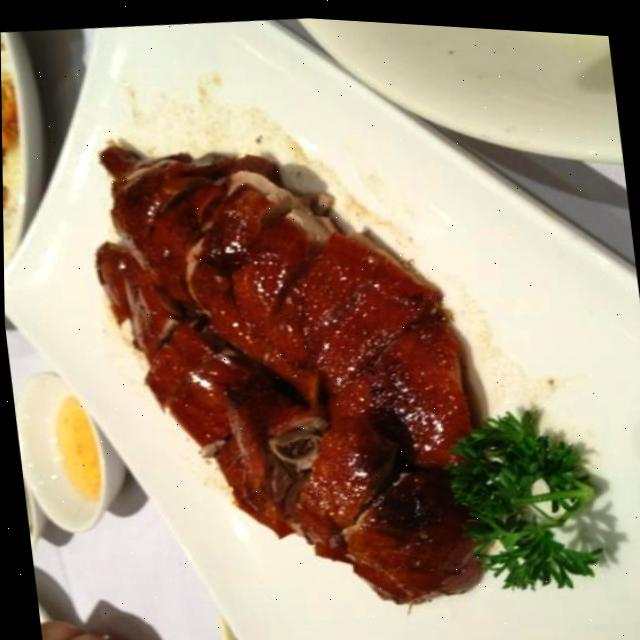烧串烤肉: (9, 3, 640, 640)
